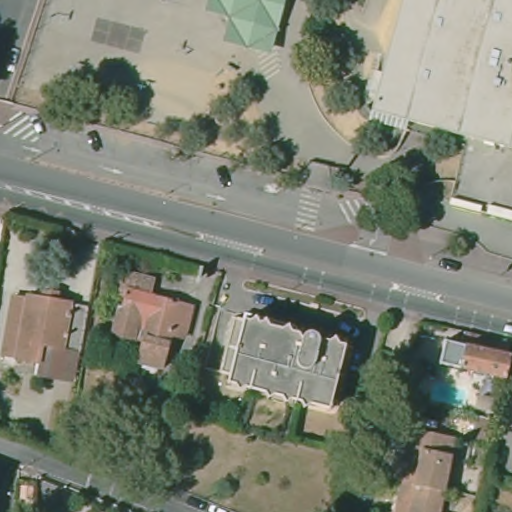pool: (415, 370, 479, 414)
